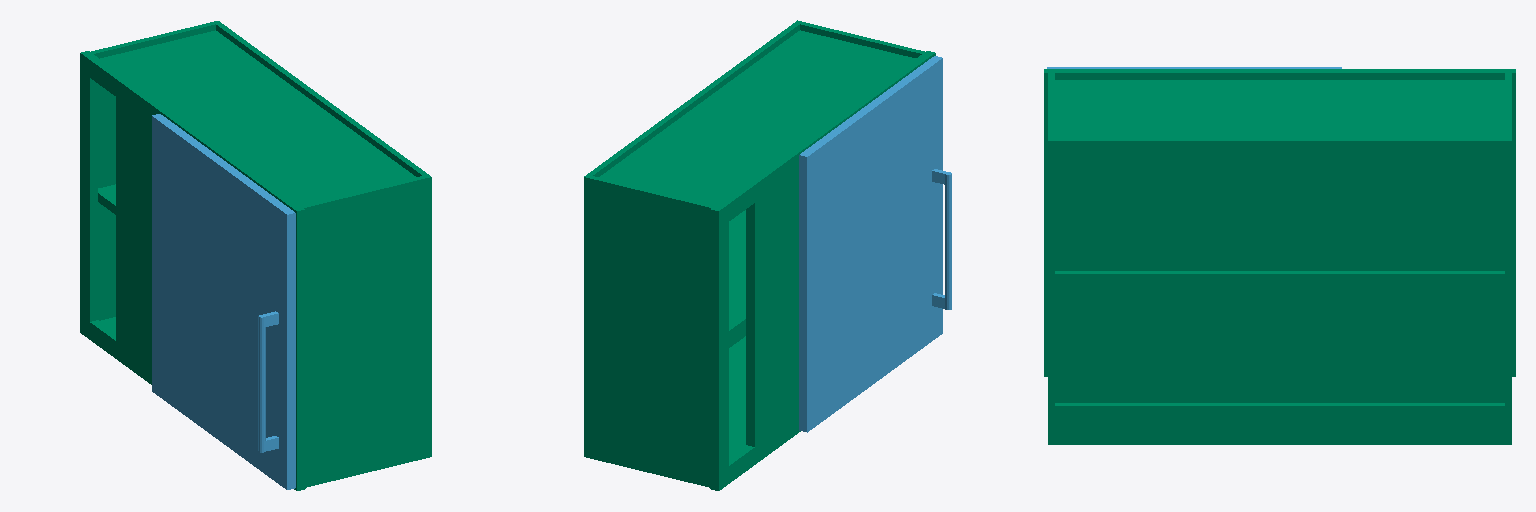
robot.urdf — partnet_36d62d9dcba0e3ec4da5feafe6f1c8fc:
<?xml version="1.0" ?>
<robot name="partnet_36d62d9dcba0e3ec4da5feafe6f1c8fc">
	<link name="base"/>
	<link name="link_0">
		<visual name="cabinet_door_surface-5">
			<origin xyz="0 0 0"/>
			<geometry>
				<mesh filename="textured_objs/original-22.obj"/>
			</geometry>
		</visual>
		<visual name="handle-6">
			<origin xyz="0 0 0"/>
			<geometry>
				<mesh filename="textured_objs/original-24.obj"/>
			</geometry>
		</visual>
		<visual name="handle-6">
			<origin xyz="0 0 0"/>
			<geometry>
				<mesh filename="textured_objs/original-26.obj"/>
			</geometry>
		</visual>
		<visual name="handle-6">
			<origin xyz="0 0 0"/>
			<geometry>
				<mesh filename="textured_objs/original-25.obj"/>
			</geometry>
		</visual>
		<collision>
			<origin xyz="0 0 0"/>
			<geometry>
				<mesh filename="textured_objs/original-22.obj"/>
			</geometry>
		</collision>
		<collision>
			<origin xyz="0 0 0"/>
			<geometry>
				<mesh filename="textured_objs/original-24.obj"/>
			</geometry>
		</collision>
		<collision>
			<origin xyz="0 0 0"/>
			<geometry>
				<mesh filename="textured_objs/original-26.obj"/>
			</geometry>
		</collision>
		<collision>
			<origin xyz="0 0 0"/>
			<geometry>
				<mesh filename="textured_objs/original-25.obj"/>
			</geometry>
		</collision>
	</link>
	<joint name="joint_0" type="prismatic">
		<origin xyz="0 0 0"/>
		<axis xyz="-1 0 0"/>
		<child link="link_0"/>
		<parent link="link_1"/>
		<limit lower="0" upper="0.56"/>
	</joint>
	<link name="link_1">
		<visual name="shelf-3">
			<origin xyz="0 0 0"/>
			<geometry>
				<mesh filename="textured_objs/original-19.obj"/>
			</geometry>
		</visual>
		<visual name="vertical_side_panel-7">
			<origin xyz="0 0 0"/>
			<geometry>
				<mesh filename="textured_objs/original-10.obj"/>
			</geometry>
		</visual>
		<visual name="vertical_side_panel-8">
			<origin xyz="0 0 0"/>
			<geometry>
				<mesh filename="textured_objs/original-9.obj"/>
			</geometry>
		</visual>
		<visual name="vertical_front_panel-9">
			<origin xyz="0 0 0"/>
			<geometry>
				<mesh filename="textured_objs/original-18.obj"/>
			</geometry>
		</visual>
		<visual name="back_panel-10">
			<origin xyz="0 0 0"/>
			<geometry>
				<mesh filename="textured_objs/original-8.obj"/>
			</geometry>
		</visual>
		<visual name="back_panel-10">
			<origin xyz="0 0 0"/>
			<geometry>
				<mesh filename="textured_objs/original-7.obj"/>
			</geometry>
		</visual>
		<visual name="bottom_panel-11">
			<origin xyz="0 0 0"/>
			<geometry>
				<mesh filename="textured_objs/original-3.obj"/>
			</geometry>
		</visual>
		<visual name="bottom_panel-11">
			<origin xyz="0 0 0"/>
			<geometry>
				<mesh filename="textured_objs/original-2.obj"/>
			</geometry>
		</visual>
		<visual name="top_panel-12">
			<origin xyz="0 0 0"/>
			<geometry>
				<mesh filename="textured_objs/original-15.obj"/>
			</geometry>
		</visual>
		<visual name="top_panel-12">
			<origin xyz="0 0 0"/>
			<geometry>
				<mesh filename="textured_objs/original-14.obj"/>
			</geometry>
		</visual>
		<visual name="frame_vertical_bar-13">
			<origin xyz="0 0 0"/>
			<geometry>
				<mesh filename="textured_objs/original-11.obj"/>
			</geometry>
		</visual>
		<visual name="frame_vertical_bar-14">
			<origin xyz="0 0 0"/>
			<geometry>
				<mesh filename="textured_objs/original-12.obj"/>
			</geometry>
		</visual>
		<visual name="frame_horizontal_bar-15">
			<origin xyz="0 0 0"/>
			<geometry>
				<mesh filename="textured_objs/original-20.obj"/>
			</geometry>
		</visual>
		<visual name="frame_horizontal_bar-16">
			<origin xyz="0 0 0"/>
			<geometry>
				<mesh filename="textured_objs/original-17.obj"/>
			</geometry>
		</visual>
		<visual name="frame_horizontal_bar-17">
			<origin xyz="0 0 0"/>
			<geometry>
				<mesh filename="textured_objs/original-4.obj"/>
			</geometry>
		</visual>
		<visual name="frame_horizontal_bar-18">
			<origin xyz="0 0 0"/>
			<geometry>
				<mesh filename="textured_objs/original-5.obj"/>
			</geometry>
		</visual>
		<visual name="frame_horizontal_bar-19">
			<origin xyz="0 0 0"/>
			<geometry>
				<mesh filename="textured_objs/original-16.obj"/>
			</geometry>
		</visual>
		<visual name="other_leaf-21">
			<origin xyz="0 0 0"/>
			<geometry>
				<mesh filename="textured_objs/original-27.obj"/>
			</geometry>
		</visual>
		<collision>
			<origin xyz="0 0 0"/>
			<geometry>
				<mesh filename="textured_objs/original-19.obj"/>
			</geometry>
		</collision>
		<collision>
			<origin xyz="0 0 0"/>
			<geometry>
				<mesh filename="textured_objs/original-10.obj"/>
			</geometry>
		</collision>
		<collision>
			<origin xyz="0 0 0"/>
			<geometry>
				<mesh filename="textured_objs/original-9.obj"/>
			</geometry>
		</collision>
		<collision>
			<origin xyz="0 0 0"/>
			<geometry>
				<mesh filename="textured_objs/original-18.obj"/>
			</geometry>
		</collision>
		<collision>
			<origin xyz="0 0 0"/>
			<geometry>
				<mesh filename="textured_objs/original-8.obj"/>
			</geometry>
		</collision>
		<collision>
			<origin xyz="0 0 0"/>
			<geometry>
				<mesh filename="textured_objs/original-7.obj"/>
			</geometry>
		</collision>
		<collision>
			<origin xyz="0 0 0"/>
			<geometry>
				<mesh filename="textured_objs/original-3.obj"/>
			</geometry>
		</collision>
		<collision>
			<origin xyz="0 0 0"/>
			<geometry>
				<mesh filename="textured_objs/original-2.obj"/>
			</geometry>
		</collision>
		<collision>
			<origin xyz="0 0 0"/>
			<geometry>
				<mesh filename="textured_objs/original-15.obj"/>
			</geometry>
		</collision>
		<collision>
			<origin xyz="0 0 0"/>
			<geometry>
				<mesh filename="textured_objs/original-14.obj"/>
			</geometry>
		</collision>
		<collision>
			<origin xyz="0 0 0"/>
			<geometry>
				<mesh filename="textured_objs/original-11.obj"/>
			</geometry>
		</collision>
		<collision>
			<origin xyz="0 0 0"/>
			<geometry>
				<mesh filename="textured_objs/original-12.obj"/>
			</geometry>
		</collision>
		<collision>
			<origin xyz="0 0 0"/>
			<geometry>
				<mesh filename="textured_objs/original-20.obj"/>
			</geometry>
		</collision>
		<collision>
			<origin xyz="0 0 0"/>
			<geometry>
				<mesh filename="textured_objs/original-17.obj"/>
			</geometry>
		</collision>
		<collision>
			<origin xyz="0 0 0"/>
			<geometry>
				<mesh filename="textured_objs/original-4.obj"/>
			</geometry>
		</collision>
		<collision>
			<origin xyz="0 0 0"/>
			<geometry>
				<mesh filename="textured_objs/original-5.obj"/>
			</geometry>
		</collision>
		<collision>
			<origin xyz="0 0 0"/>
			<geometry>
				<mesh filename="textured_objs/original-16.obj"/>
			</geometry>
		</collision>
		<collision>
			<origin xyz="0 0 0"/>
			<geometry>
				<mesh filename="textured_objs/original-27.obj"/>
			</geometry>
		</collision>
	</link>
	<joint name="joint_1" type="fixed">
		<origin rpy="1.570796326794897 0 -1.570796326794897" xyz="0 0 0"/>
		<child link="link_1"/>
		<parent link="base"/>
	</joint>
</robot>

--- Facts derived from the render (not from the file) ---
The picture shows the robot from 3 angles, left to right: view 1: azimuth 30°, elevation 25°; view 2: azimuth 150°, elevation 25°; view 3: azimuth 270°, elevation 25°; orthographic projection.
Model partnet_36d62d9dcba0e3ec4da5feafe6f1c8fc with 3 links and 2 joints (1 prismatic, 1 fixed), rooted at base, posed all joints at 0.
Links seen in each view (by area): view 1: link_1, link_0; view 2: link_1, link_0; view 3: link_1, link_0.
Link boxes in pixels (left/top/right/bottom): link_1: left=80, top=21, right=431, bottom=490; link_0: left=152, top=114, right=295, bottom=489; link_1: left=584, top=20, right=935, bottom=490; link_0: left=799, top=56, right=951, bottom=432; link_1: left=1044, top=69, right=1515, bottom=444; link_0: left=1047, top=67, right=1341, bottom=68.
Size in the robot's own frame: 0.6913 by 1.59 by 1.13 metres.
22 mesh visuals loaded from 22 distinct referenced files (22 OBJ).